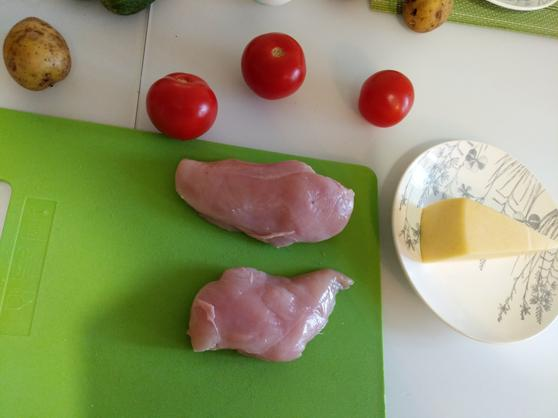cheese: (421, 197, 558, 267)
chicken_fillet: (175, 151, 359, 244), (186, 268, 360, 362)
potato: (6, 16, 72, 88), (400, 1, 453, 31)
tomato: (147, 69, 218, 140), (242, 31, 309, 100), (357, 69, 415, 127)
